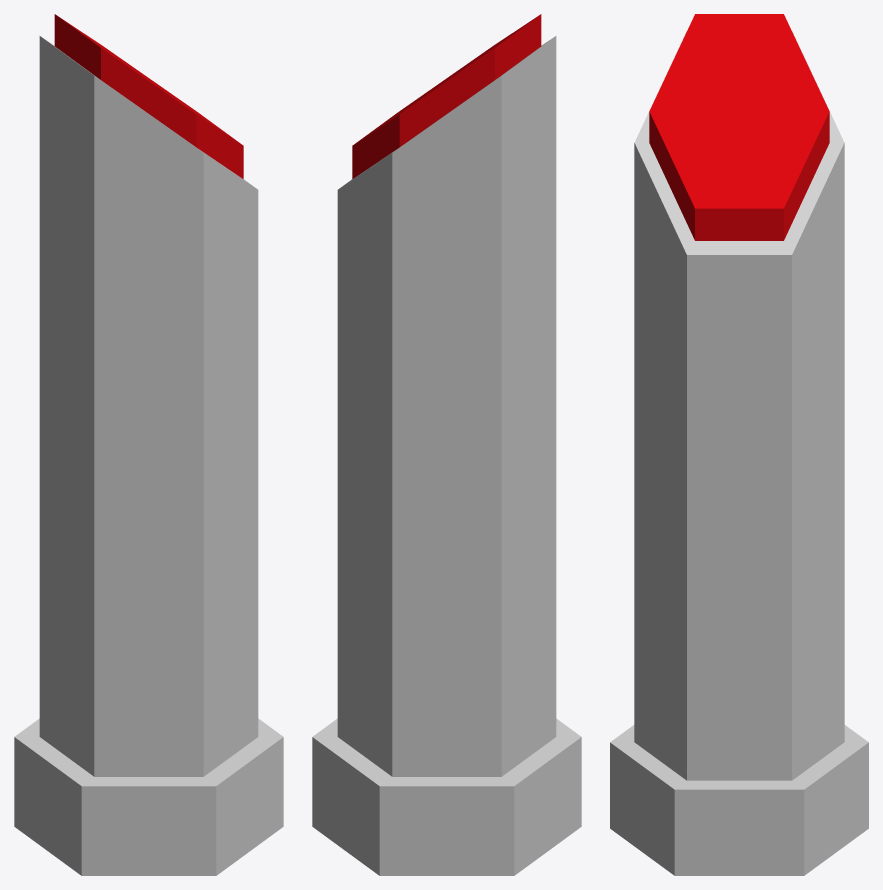
The model's file is Button.fbx.
3 renders of one model, left to right at view 1: azimuth 30°, elevation 25°; view 2: azimuth 150°, elevation 25°; view 3: azimuth 270°, elevation 25°, orthographic. The views are drawn at different scales.
Parts seen in each view (by area): view 1: Base, Button; view 2: Base, Button; view 3: Base, Button.
Boxes of the visible parts, <box> form: Base: <box>14,36,283,875</box>; Button: <box>54,14,243,178</box>; Base: <box>312,36,581,875</box>; Button: <box>352,14,541,178</box>; Base: <box>610,30,868,875</box>; Button: <box>649,14,829,240</box>.
Bounding box in the file's own units: 29.65 × 114 × 34.24.
